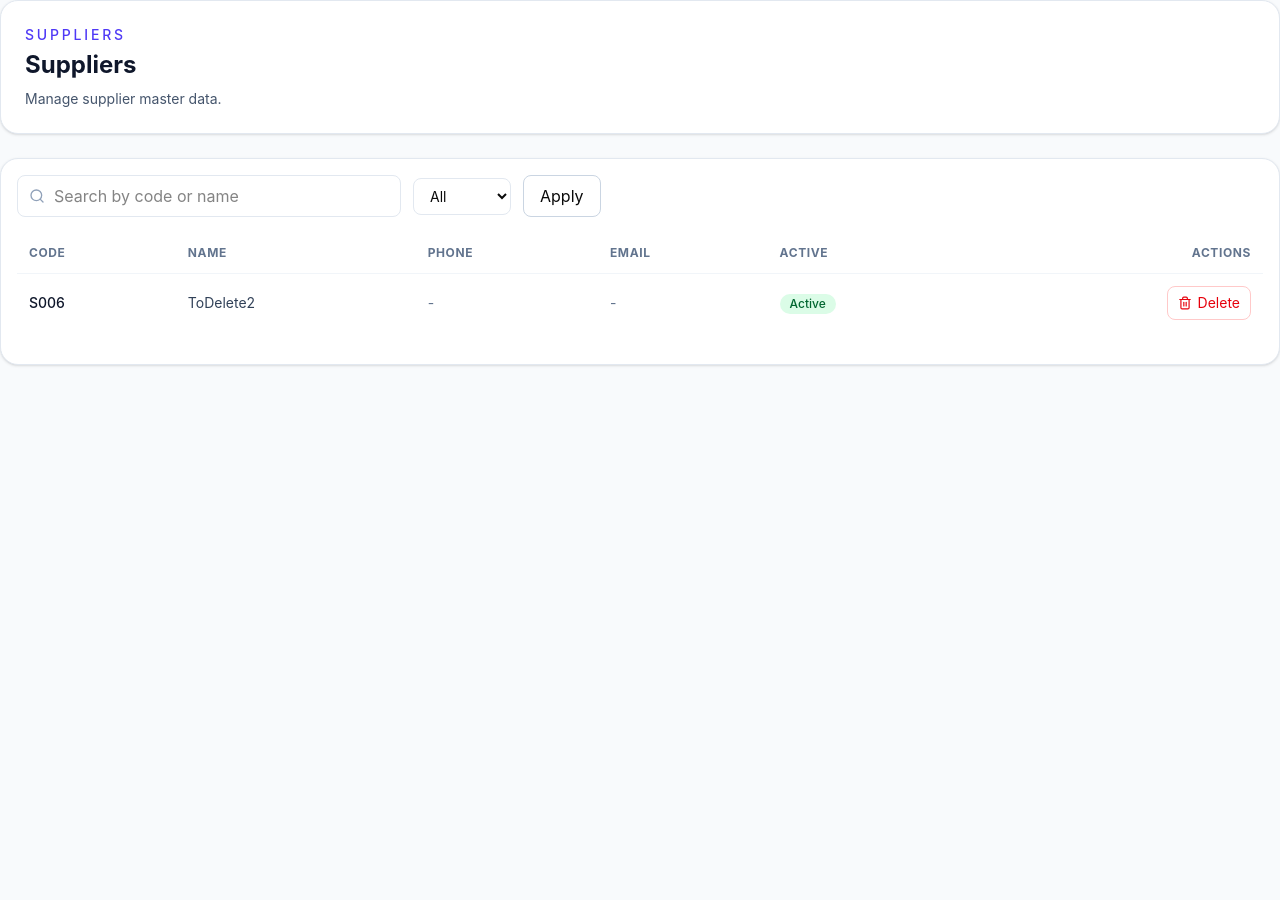
SuppliersPage › shows API error when delete fails
Expected: the text "ToDelete2" is shown, [176,274,416,332]
Click the button "Delete" at point(1209, 303), box [1167,286,1251,320]
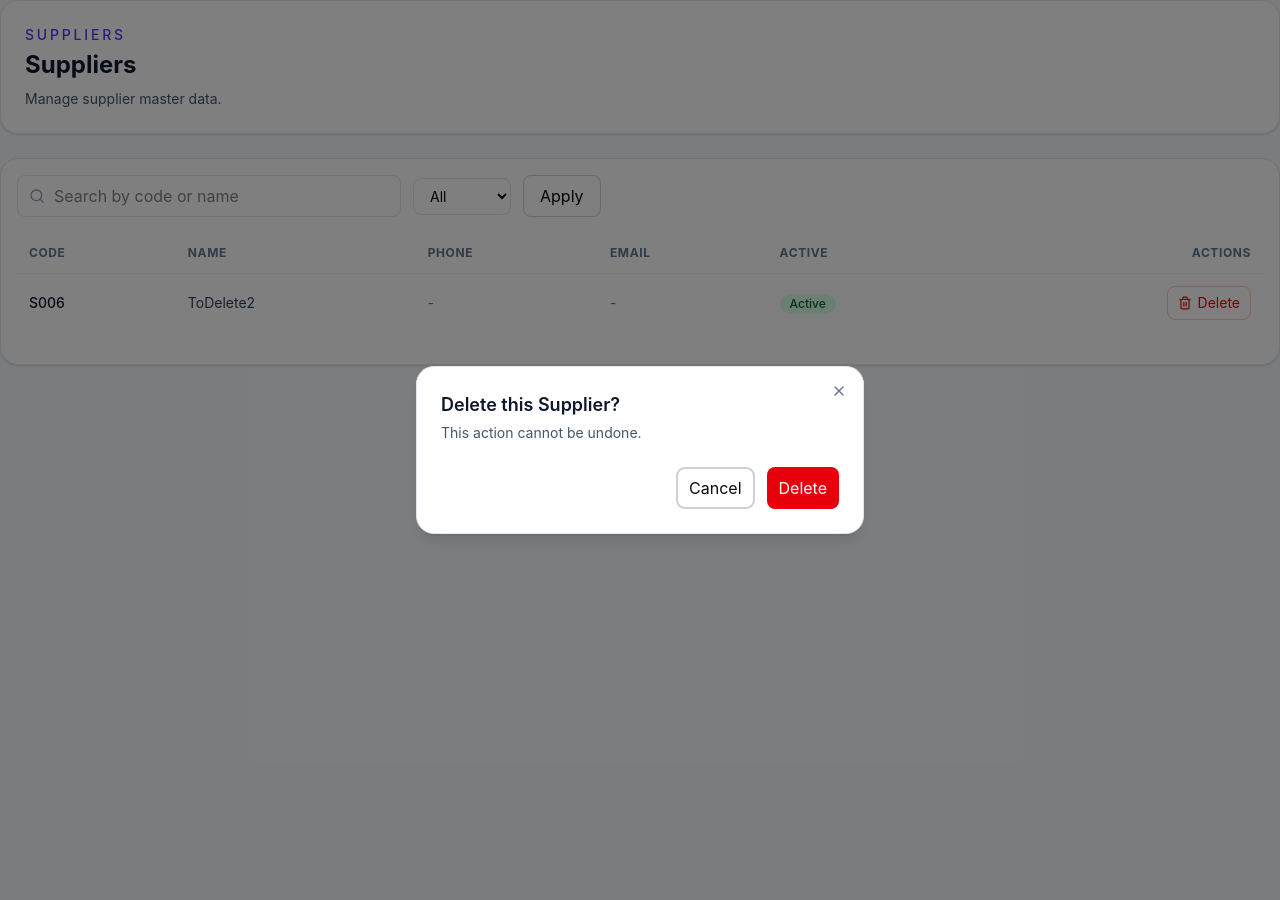
Now the dialog is shown, box [416,366,864,534]
Click the button "Delete" at point(803, 488), box [766,467,839,509]
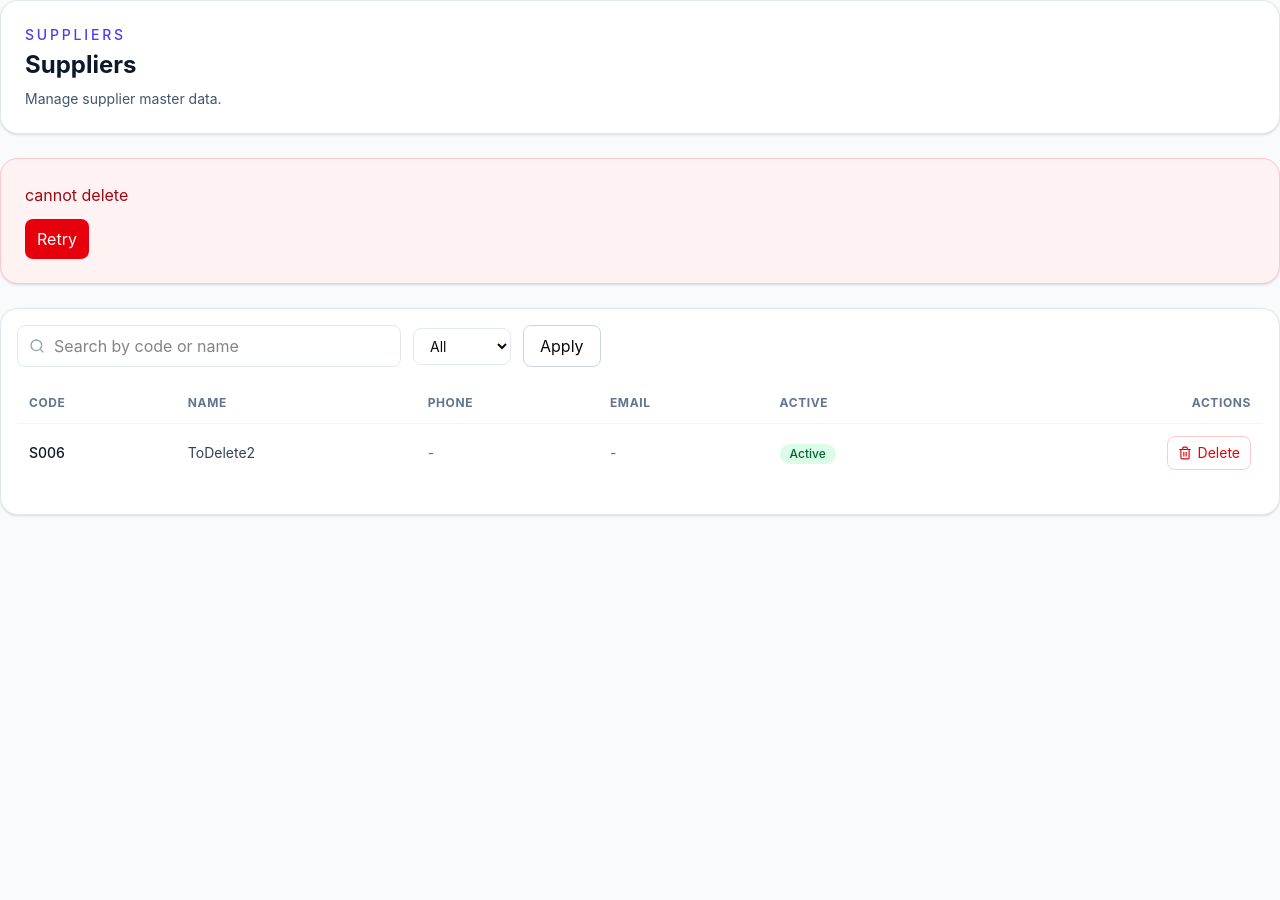
Now the text "cannot delete" is shown, box [25,185,128,205]
